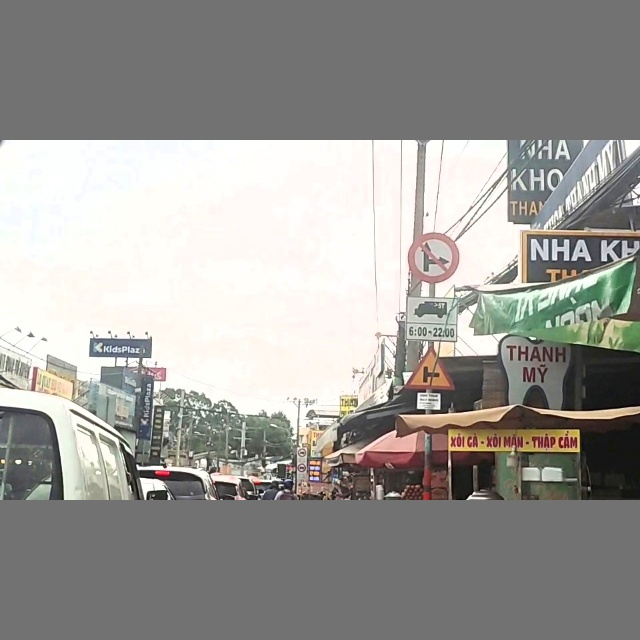P.139: (409, 232, 459, 282)
S.505a*Xe tai: (405, 298, 457, 338)
W.205b: (405, 347, 458, 389)
